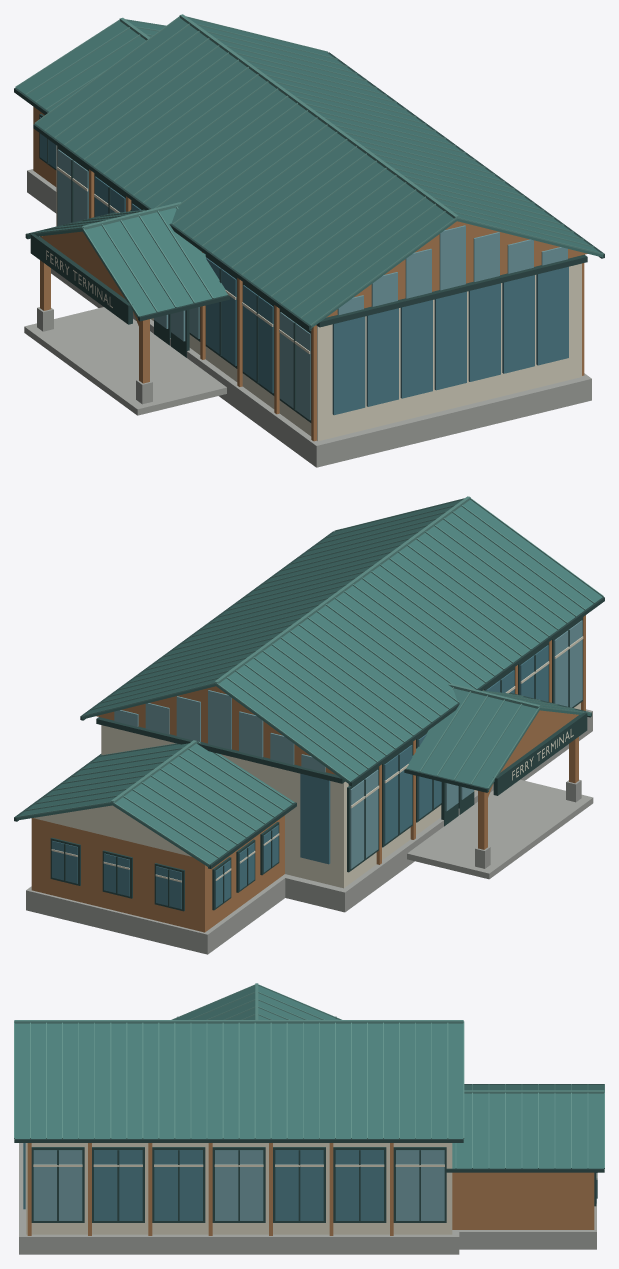
Rendered from ferry_passenger_terminal.glb.
3 renders of one model, top to bottom at view 1: azimuth 30°, elevation 25°; view 2: azimuth 150°, elevation 25°; view 3: azimuth 270°, elevation 25°, orthographic. The views are drawn at different scales.
Visible parts, largest first — view 1: ferry_passenger_terminal; view 2: ferry_passenger_terminal; view 3: ferry_passenger_terminal.
Boxes of the visible parts, bbox=[...] form: ferry_passenger_terminal: bbox=[14, 14, 604, 467]; ferry_passenger_terminal: bbox=[14, 496, 604, 954]; ferry_passenger_terminal: bbox=[14, 983, 604, 1254].
Size of the model in its own units: 19.97 by 11.12 by 33.28.
